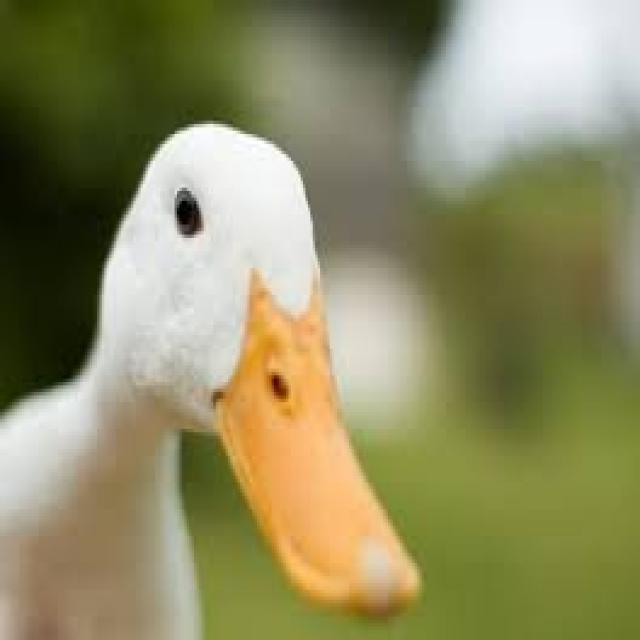Duck: (1, 96, 430, 634)
